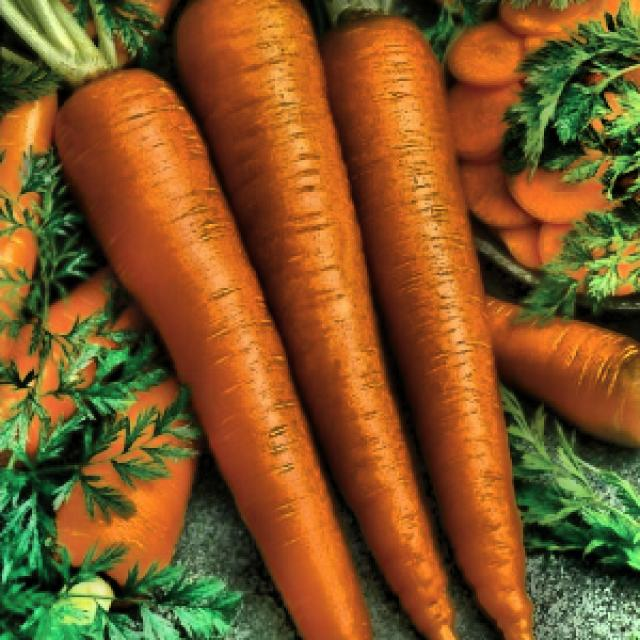carrot: (16, 5, 606, 624)
